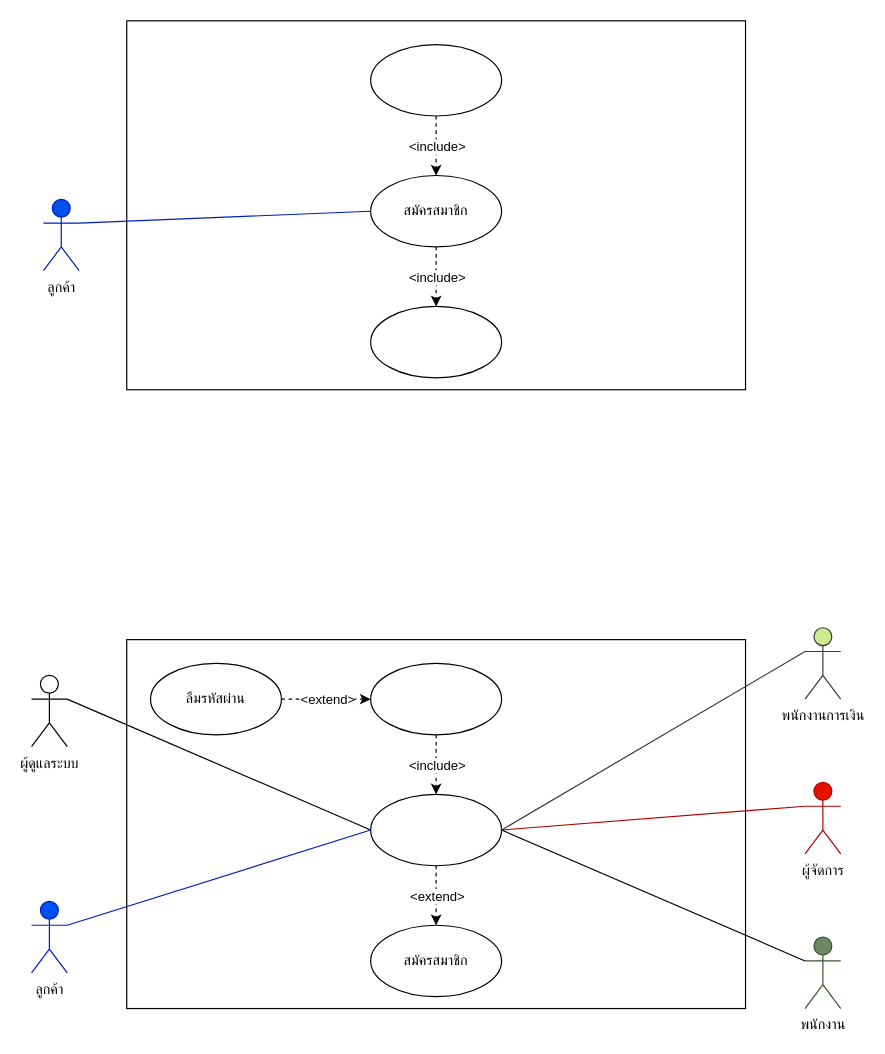
This 885x1054 diagram has some shape labels left out. The shapes that lost their labels are listed below. From the top down, each one's centre as x and y in pixels, then its label:
point 435,79: กรอก อีเมล,ชื่อ,รหัส
point 435,341: ยืนยันอีเมล
point 435,698: กรอก อีเมล/ชื่อ,รหัส
point 435,829: เข้าสู่ระบบ
